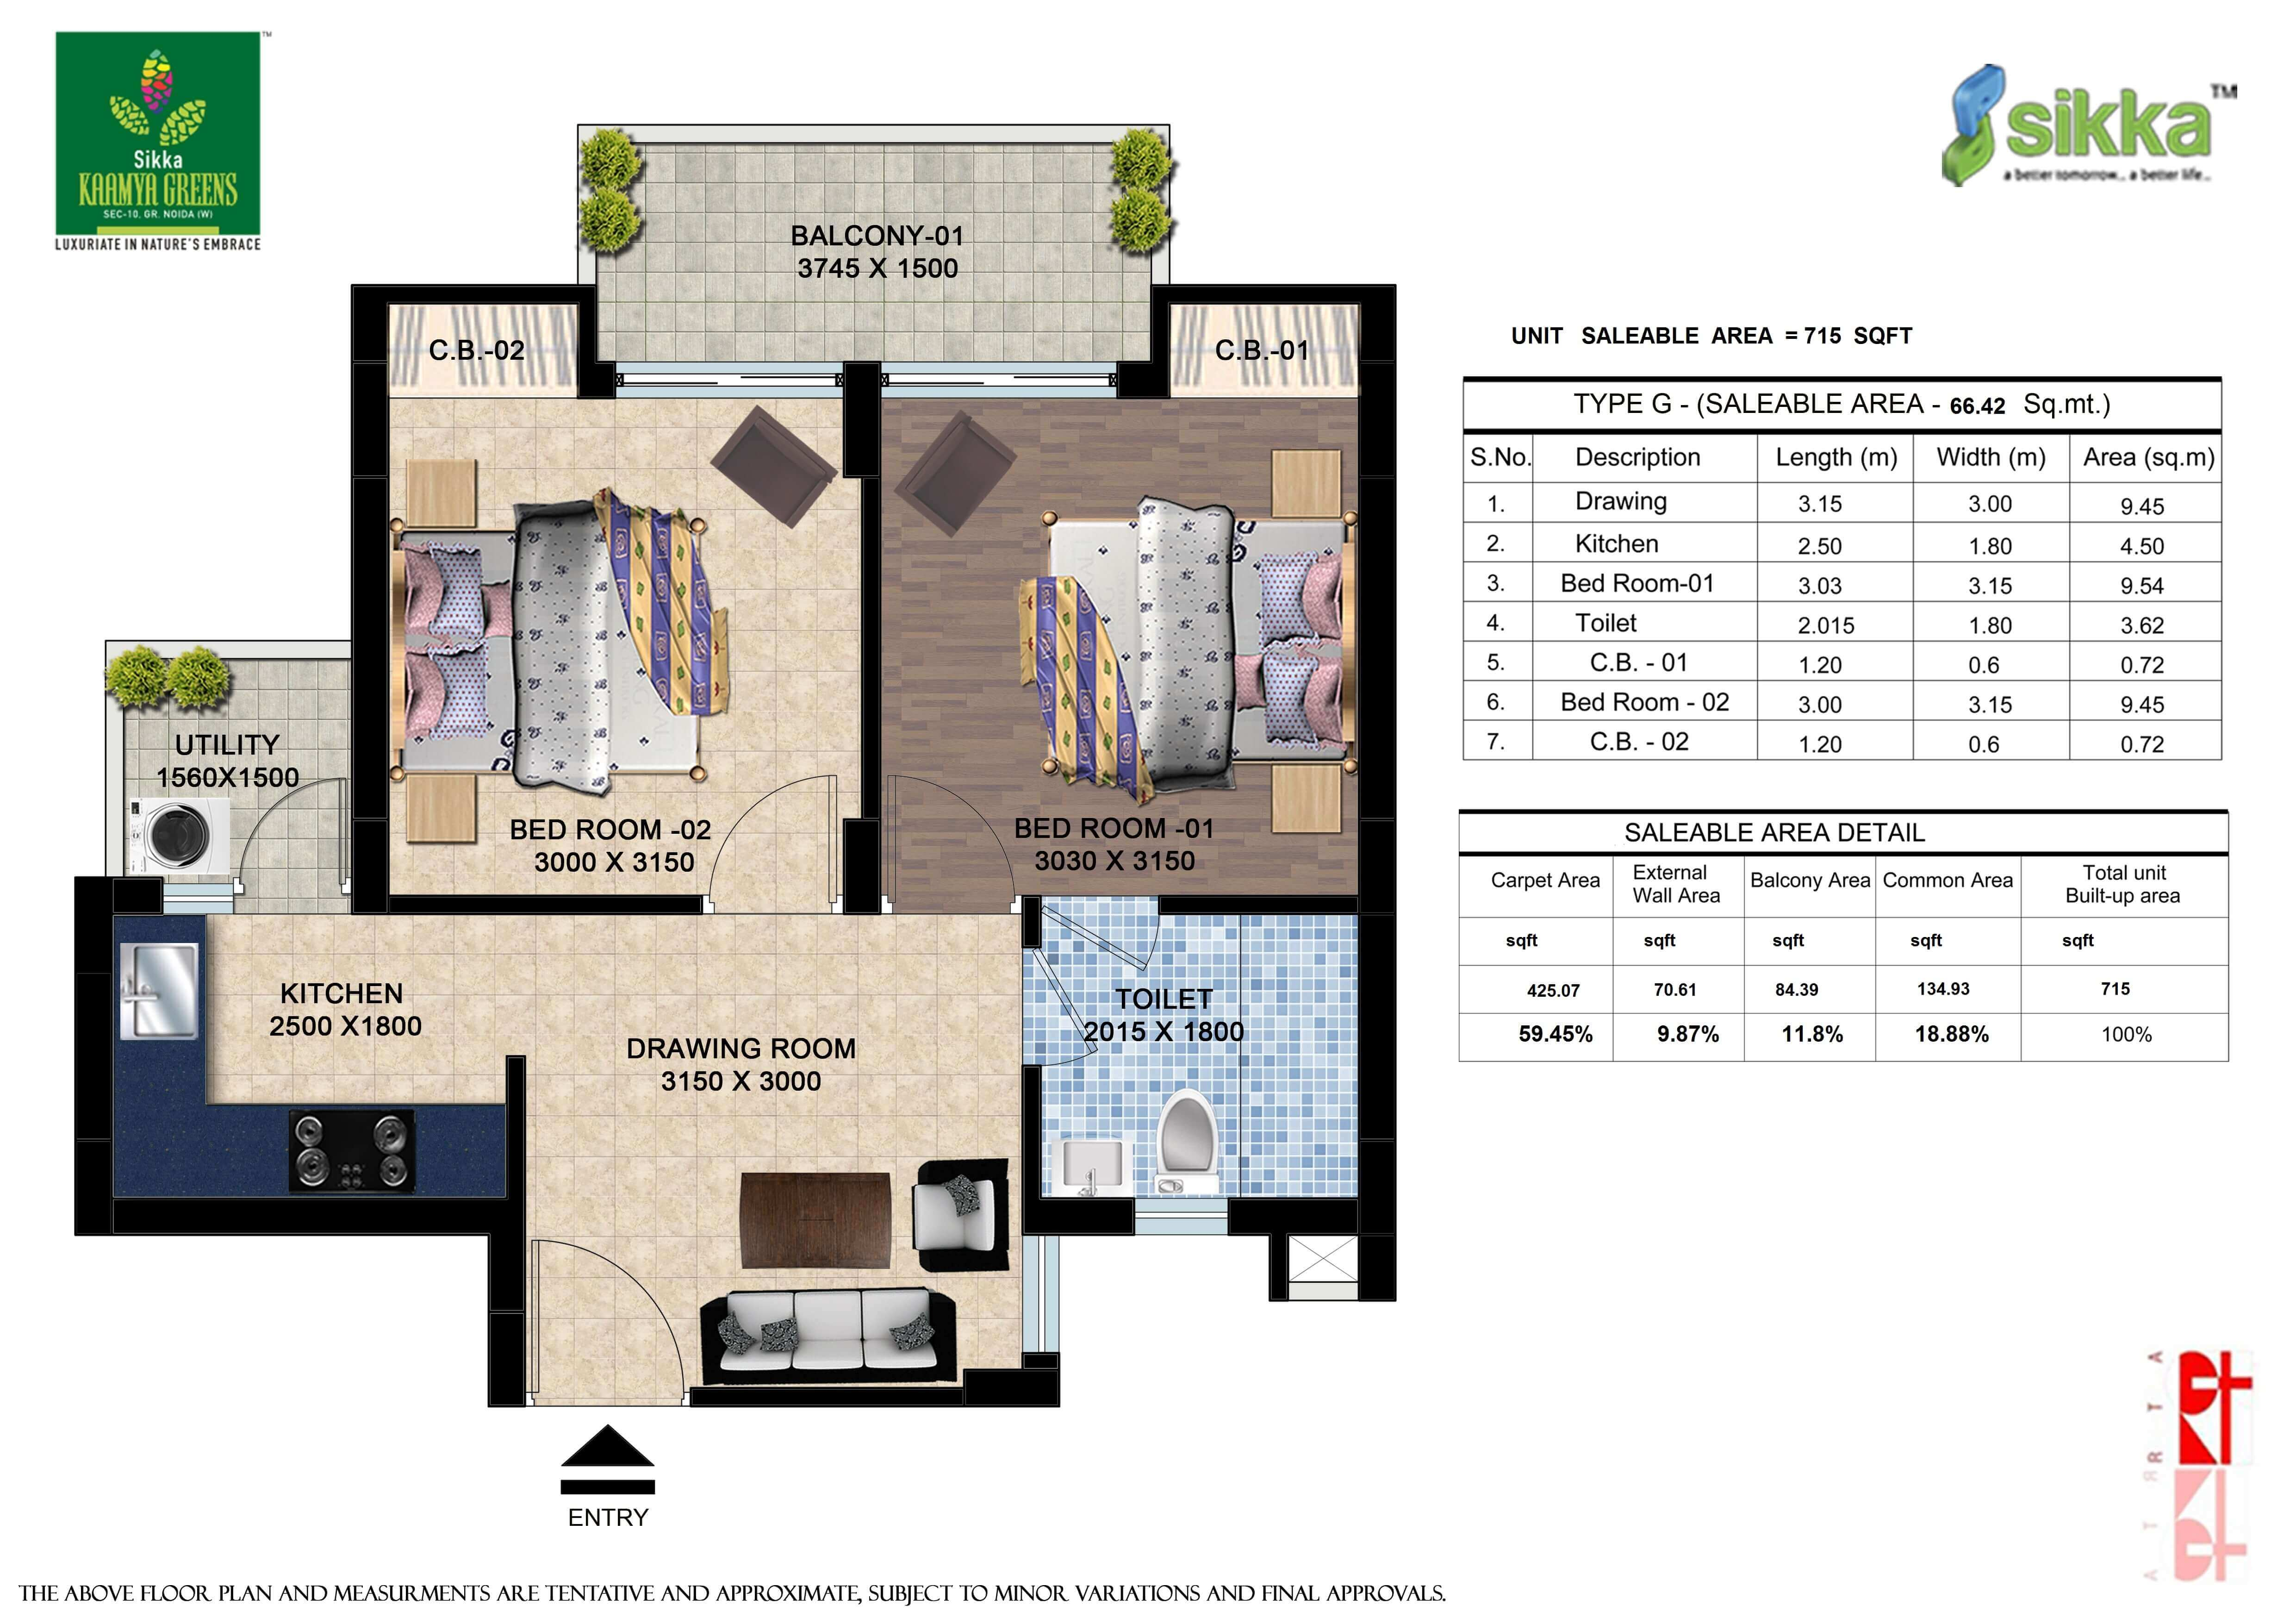window: (878, 360, 1119, 401), (613, 360, 847, 399), (1021, 1234, 1059, 1353), (1133, 1197, 1230, 1237)
